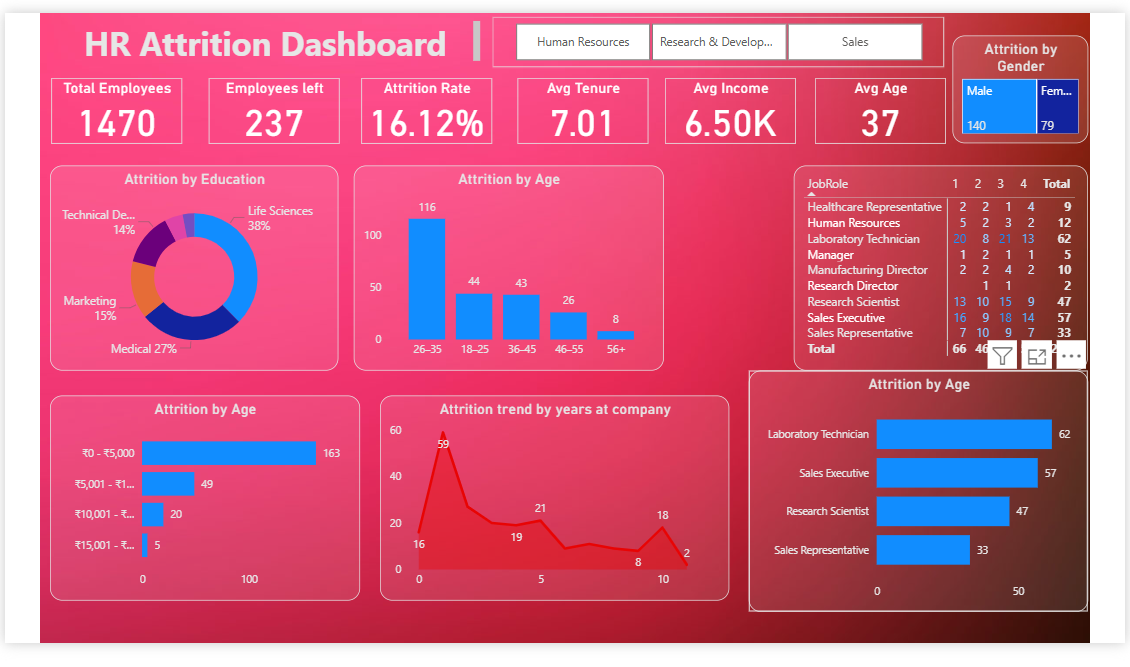

The page's visual inventory and layout, read from the dashboard file:
{"tool":"powerbi","page":{"name":"HR Attrition Dashboard","canvas":[1280,720],"ordinal":0},"visuals":[{"type":"card","title":"Total  Employees","fields":{"Values":["HR-Employee-Attrition-Clean.Total Employees"]},"box":[53.5,74.4,149.6,75.5],"z":0},{"type":"card","title":"Employees left","fields":{"Values":["HR-Employee-Attrition-Clean.Employees Left"]},"box":[233.2,74.4,149.6,75.5],"z":1000},{"type":"card","title":"Attrition Rate","fields":{"Values":["HR-Employee-Attrition-Clean.Attrition Rate (%)"]},"box":[407.5,74.4,149.6,75.5],"z":2000},{"type":"card","title":"Avg Tenure","fields":{"Values":["HR-Employee-Attrition-Clean.Average Tenure"]},"box":[585.9,74.4,149.6,75.5],"z":3000},{"type":"card","title":"Avg  Income","fields":{"Values":["HR-Employee-Attrition-Clean.Average Monthly Income"]},"box":[754.7,74.4,149.6,75.5],"z":4000},{"type":"card","title":"Avg Age","fields":{"Values":["Avg(HR-Employee-Attrition-Clean.Age)"]},"box":[926.2,74.4,149.6,75.5],"z":5000},{"type":"donutChart","title":"Attrition by Education","fields":{"Category":["HR-Employee-Attrition-Clean.EducationField"],"Y":["HR-Employee-Attrition-Clean.Employees Left"]},"box":[50.8,174.3,329.3,234.6],"z":6000},{"type":"columnChart","title":"Attrition by Age","fields":{"Category":["HR-Employee-Attrition-Clean.Age Group"],"Y":["HR-Employee-Attrition-Clean.Employees Left"]},"box":[397.9,174.3,354,234.6],"z":7000},{"type":"pivotTable","fields":{"Rows":["HR-Employee-Attrition-Clean.JobRole"],"Columns":["HR-Employee-Attrition-Clean.JobSatisfaction"],"Values":["HR-Employee-Attrition-Clean.Employees Left"]},"box":[901.5,174.3,336.2,234.6],"z":8000},{"type":"barChart","title":"Attrition by Age","fields":{"Category":["HR-Employee-Attrition-Clean.Salary Slab"],"Y":["HR-Employee-Attrition-Clean.Employees Left"]},"box":[50.8,437.7,354,234.6],"z":9000},{"type":"barChart","title":"Attrition by Age","fields":{"Category":["HR-Employee-Attrition-Clean.JobRole"],"Y":["HR-Employee-Attrition-Clean.Employees Left"]},"box":[849.4,408.9,388.3,275.8],"z":10000},{"type":"areaChart","title":"Attrition trend by years at company","fields":{"Category":["HR-Employee-Attrition-Clean.YearsAtCompany"],"Y":["HR-Employee-Attrition-Clean.Employees Left"]},"box":[428.1,437.7,399.3,234.6],"z":11000},{"type":"treemap","title":"Attrition by Gender","fields":{"Group":["HR-Employee-Attrition-Clean.Gender"],"Values":["HR-Employee-Attrition-Clean.Employees Left"]},"box":[1082.7,26.1,155.1,123.5],"z":12000},{"type":"slicer","fields":{"Values":["HR-Employee-Attrition-Clean.Department"]},"box":[557.1,4.1,516,57.6],"z":13000},{"type":"textbox","box":[53.8,3.8,493.8,57.5],"z":14000}]}

Visuals, with their boxes in screenshot pixels (x1, y1, x2, y2):
"Total  Employees" card: detection(55, 74, 186, 139)
"Employees left" card: detection(212, 74, 342, 139)
"Attrition Rate" card: detection(364, 74, 494, 139)
"Avg Tenure" card: detection(519, 74, 649, 139)
"Avg  Income" card: detection(666, 74, 796, 139)
"Avg Age" card: detection(815, 74, 945, 139)
"Attrition by Education" donutChart: detection(53, 161, 340, 365)
"Attrition by Age" columnChart: detection(355, 161, 663, 365)
pivotTable - HR-Employee-Attrition-Clean.JobRole x HR-Employee-Attrition-Clean.JobSatisfaction: detection(794, 161, 1086, 365)
"Attrition by Age" barChart: detection(53, 390, 361, 594)
"Attrition by Age" barChart: detection(748, 365, 1086, 605)
"Attrition trend by years at company" areaChart: detection(382, 390, 729, 594)
"Attrition by Gender" treemap: detection(951, 32, 1086, 139)
slicer - HR-Employee-Attrition-Clean.Department: detection(494, 12, 943, 63)
textbox: detection(56, 12, 486, 62)
